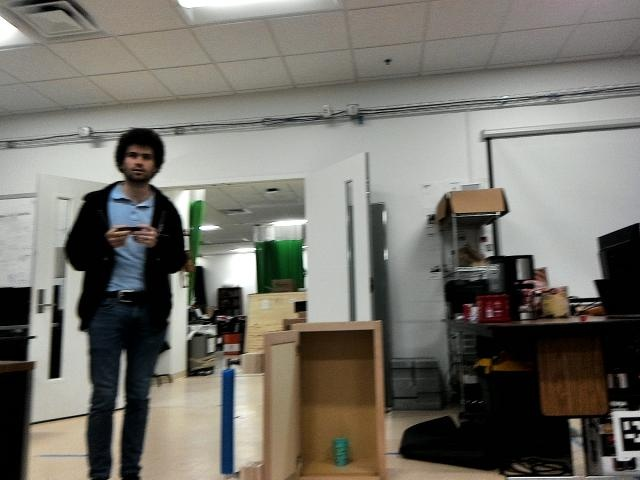coffee_cup: (330, 434, 351, 466)
noodle_handle: (218, 364, 237, 477)
